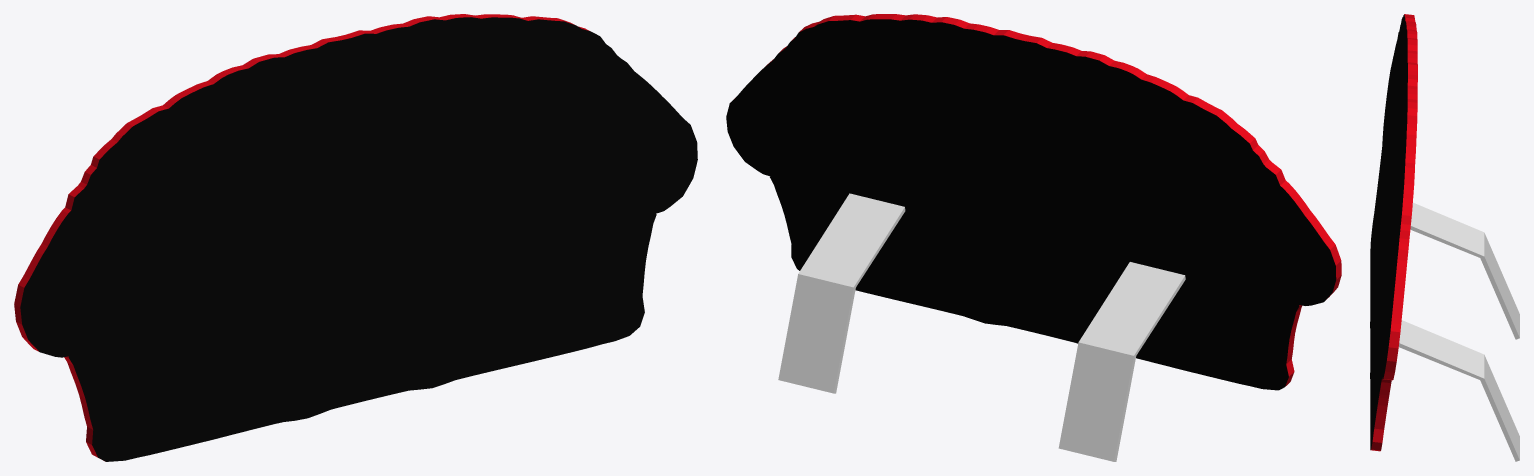
The model's file is red sofa cardboard.fbx.
3 renders of one model, left to right at view 1: azimuth 30°, elevation 25°; view 2: azimuth 150°, elevation 25°; view 3: azimuth 270°, elevation 25°, orthographic. The views are drawn at different scales.
Visible parts, largest first — view 1: path1; view 2: path1, Plane.001, Plane; view 3: path1, Plane.001, Plane.
Part boxes in pixels (left/top/right/bottom): path1: left=14, top=14, right=697, bottom=461; path1: left=726, top=14, right=1341, bottom=390; Plane.001: left=778, top=193, right=905, bottom=393; Plane: left=1058, top=262, right=1185, bottom=461; path1: left=1370, top=14, right=1417, bottom=451; Plane.001: left=1398, top=320, right=1519, bottom=461; Plane: left=1410, top=202, right=1519, bottom=339.
Size of the model in its own units: 1930 by 1050 by 460.
